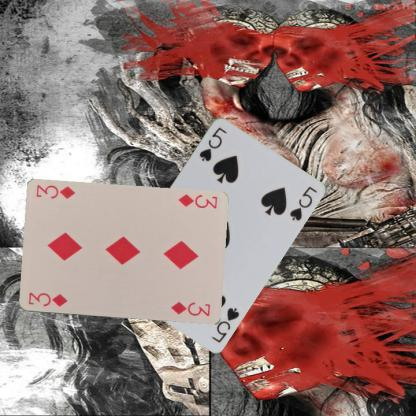3d: (26, 289, 68, 308), (175, 192, 218, 210)
5s: (209, 304, 240, 344), (197, 124, 228, 162)
